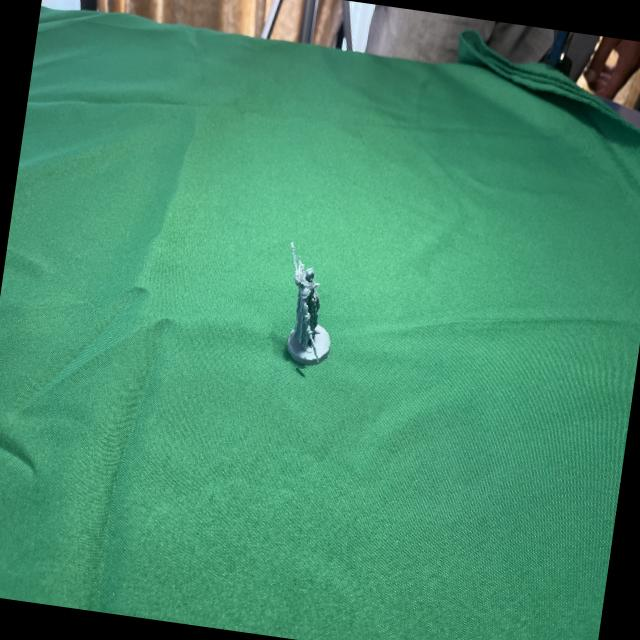isis_follower: (264, 228, 346, 374)
